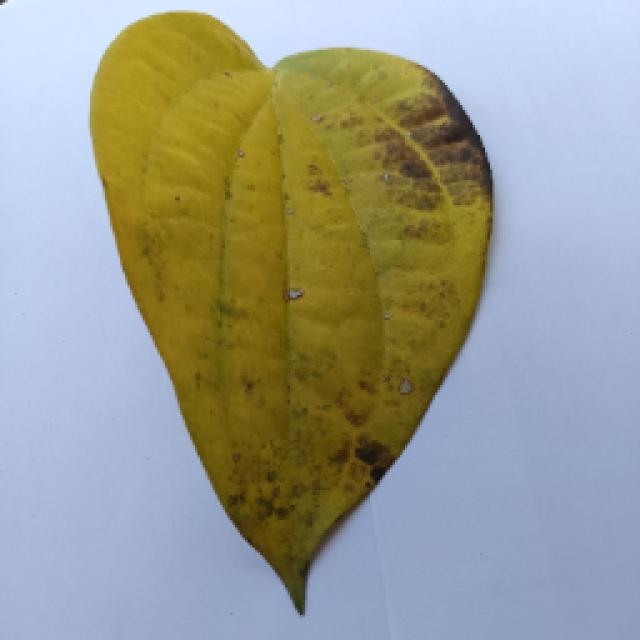slow-decline: (12, 20, 522, 622)
